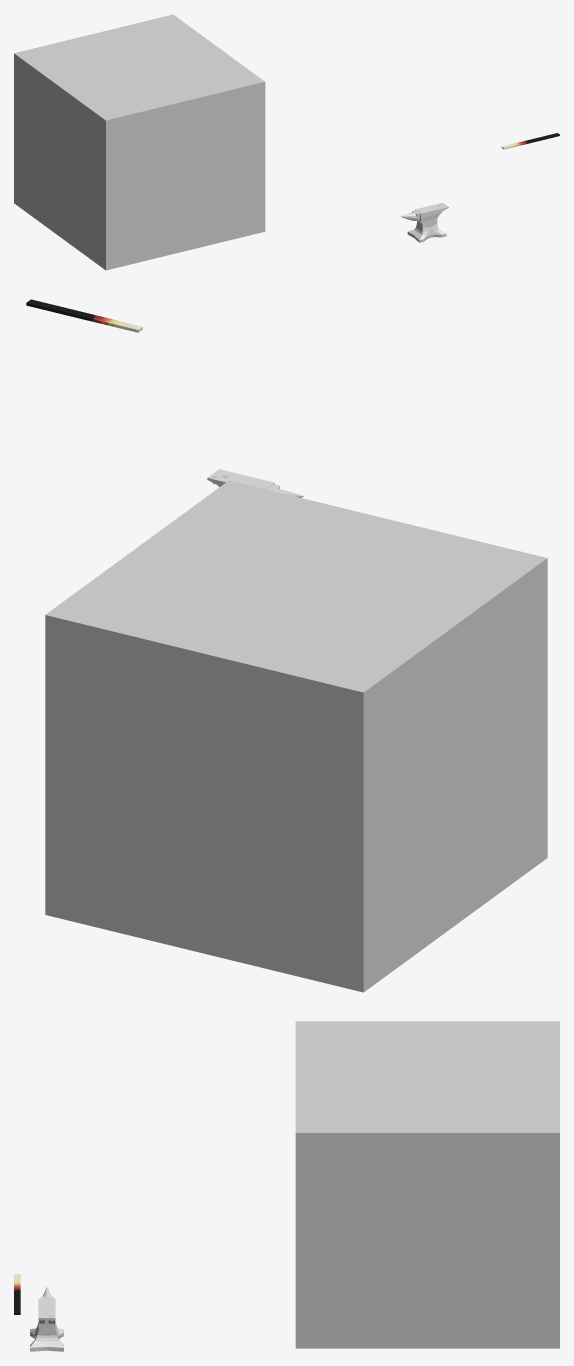
The model's file is ironhotedge.dae.
The picture shows the model from 3 angles, top to bottom: view 1: azimuth 30°, elevation 25°; view 2: azimuth 150°, elevation 25°; view 3: azimuth 270°, elevation 25°; orthographic projection. The views are drawn at different scales.
Visible parts, largest first — view 1: Cube_004, Cube_002; view 2: Cube_004, IronHotEdge; view 3: Cube_004, Cube_002.
Part boxes in pixels (left/top/right/bottom): Cube_004: left=14, top=14, right=265, bottom=270; Cube_002: left=401, top=202, right=448, bottom=242; Cube_004: left=45, top=480, right=547, bottom=992; IronHotEdge: left=26, top=299, right=142, bottom=332; Cube_004: left=295, top=1021, right=559, bottom=1348; Cube_002: left=30, top=1287, right=63, bottom=1351.
Bounding box in the file's own units: 4.47 × 4.13 × 1.8.
Materials: 1 (1 with a texture image).
